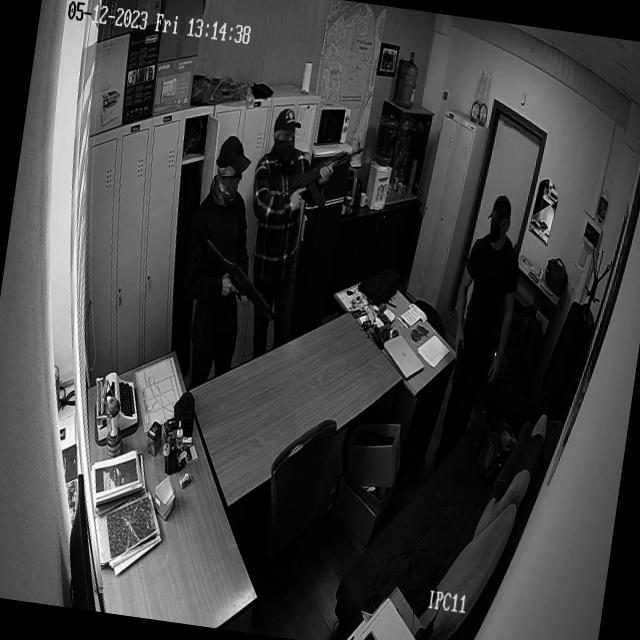gun: (193, 234, 283, 325), (288, 133, 364, 210), (452, 340, 466, 374)
person with a gun: (177, 93, 281, 392), (432, 184, 532, 494), (235, 90, 334, 350)
